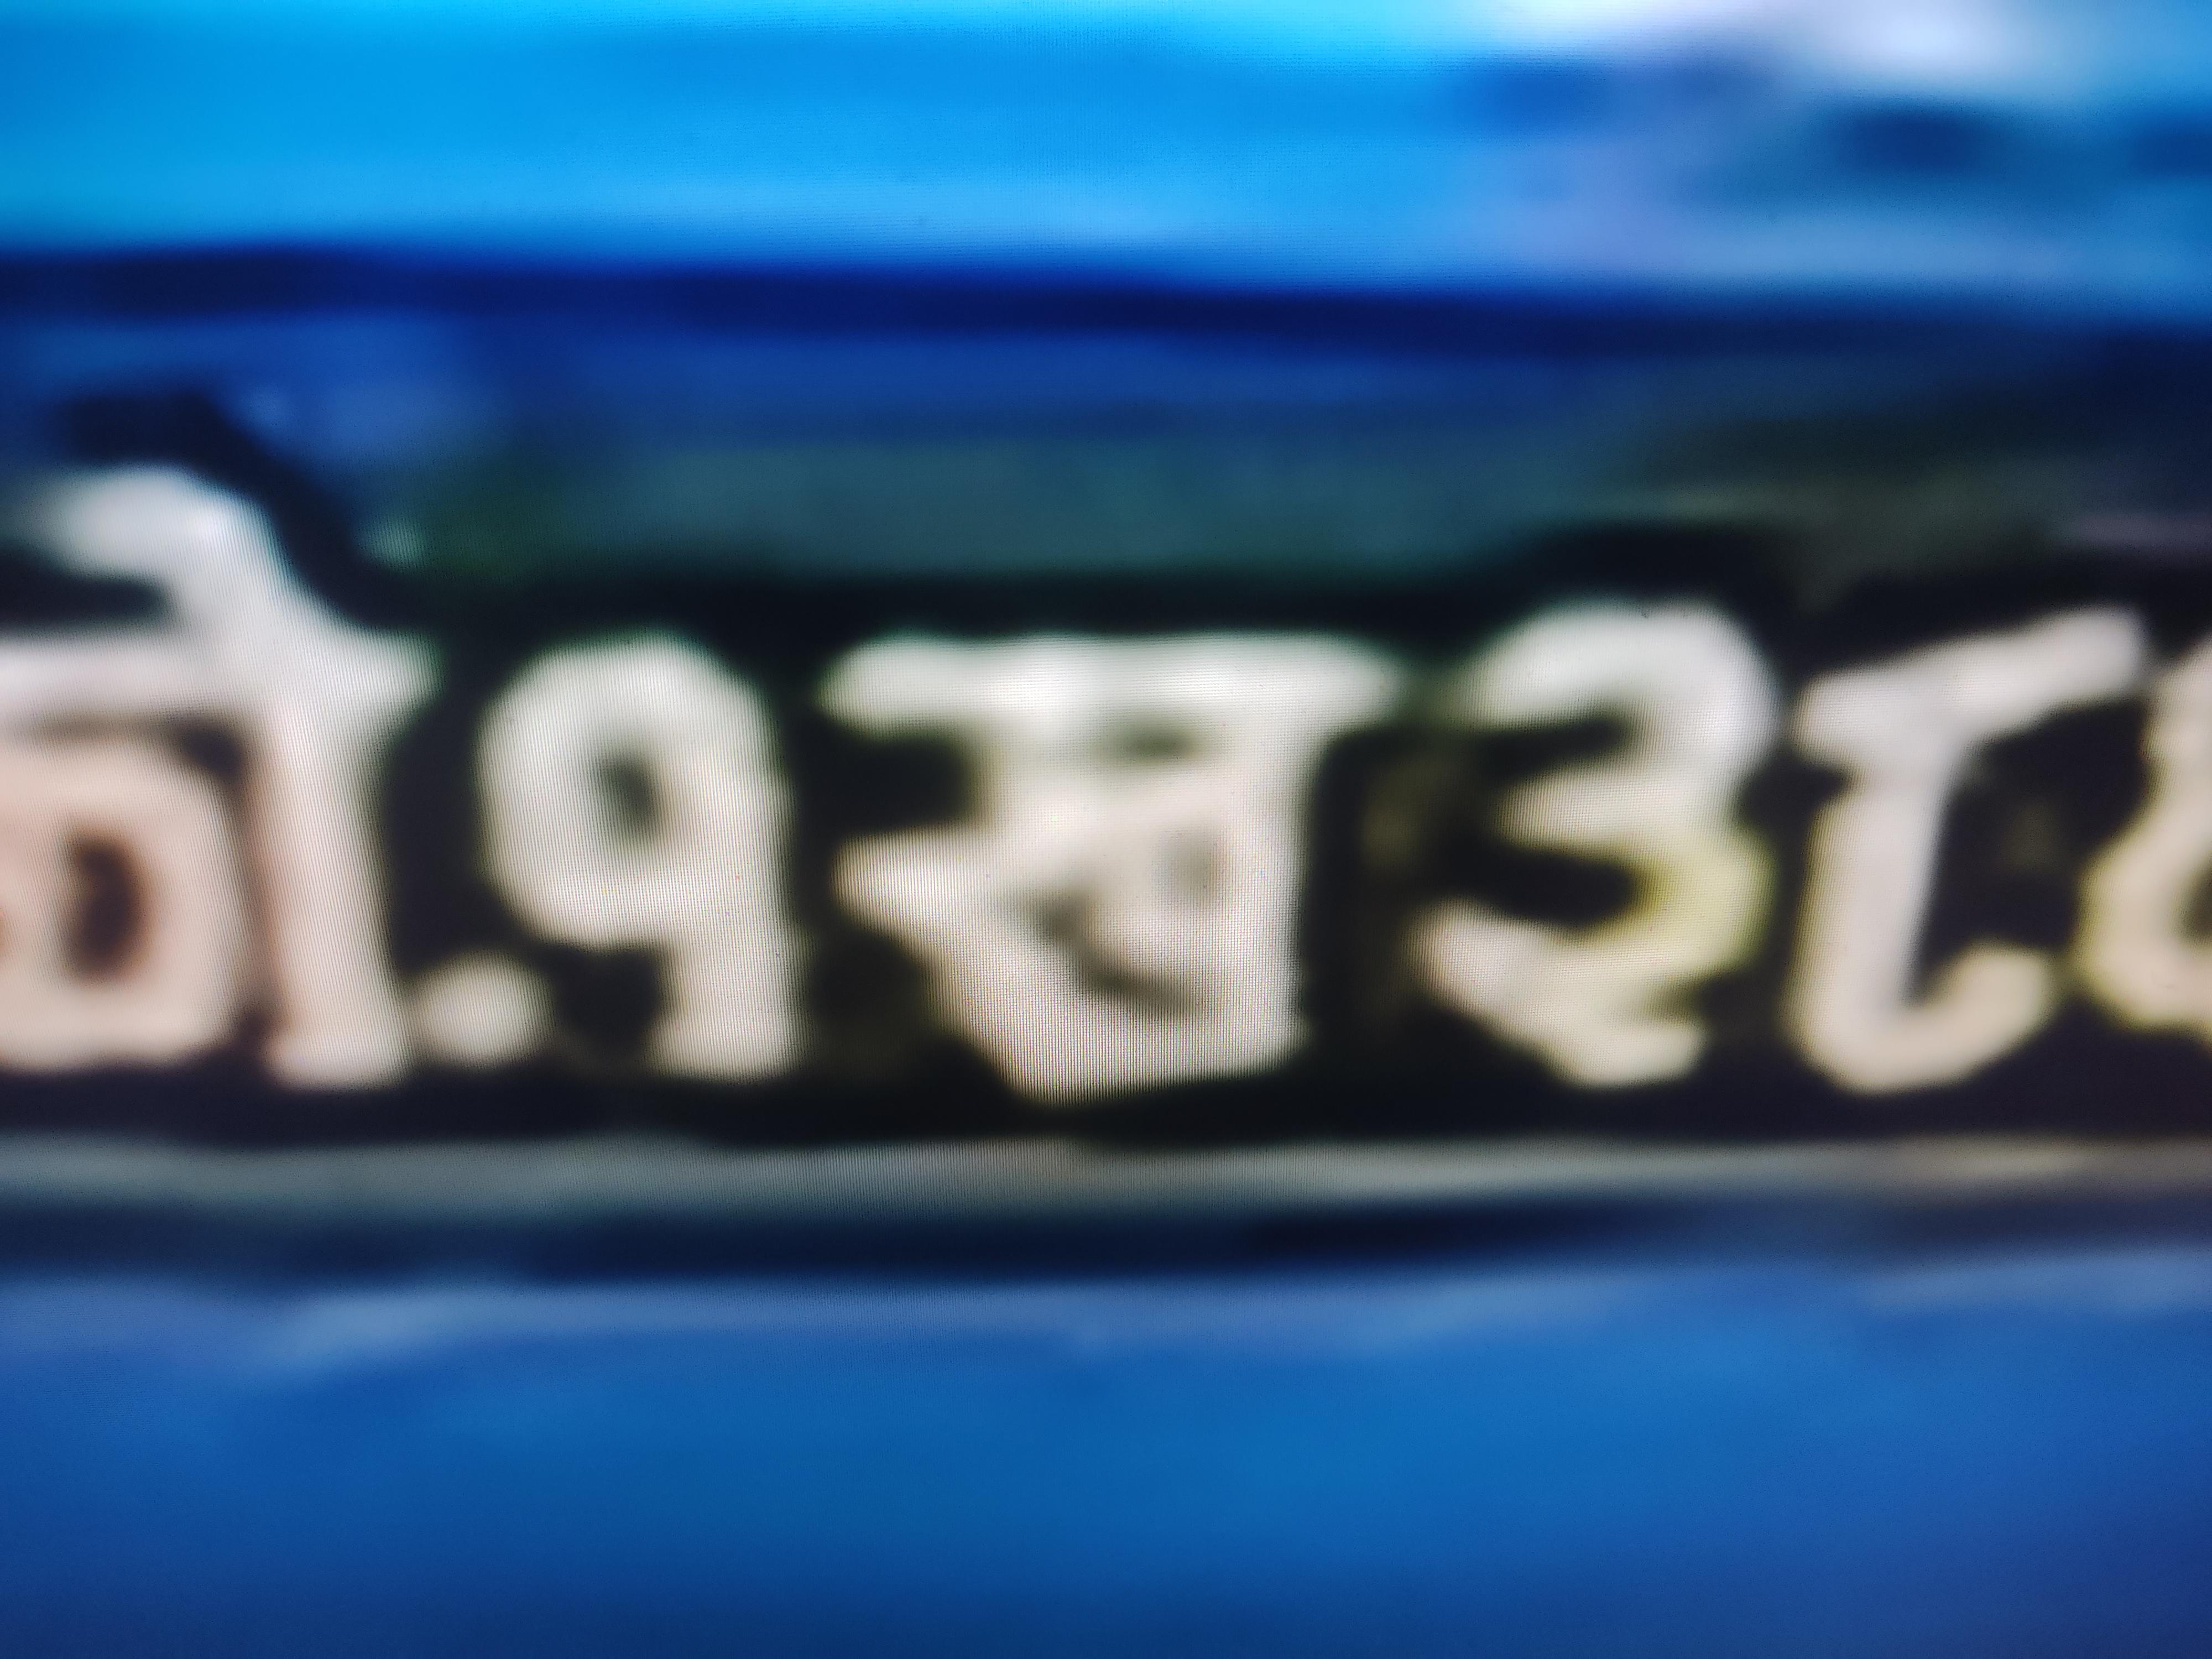1: (424, 598, 837, 1125)
3: (1369, 551, 1762, 1189)
8: (1752, 542, 2212, 1148)
kha: (844, 584, 1361, 1169)
